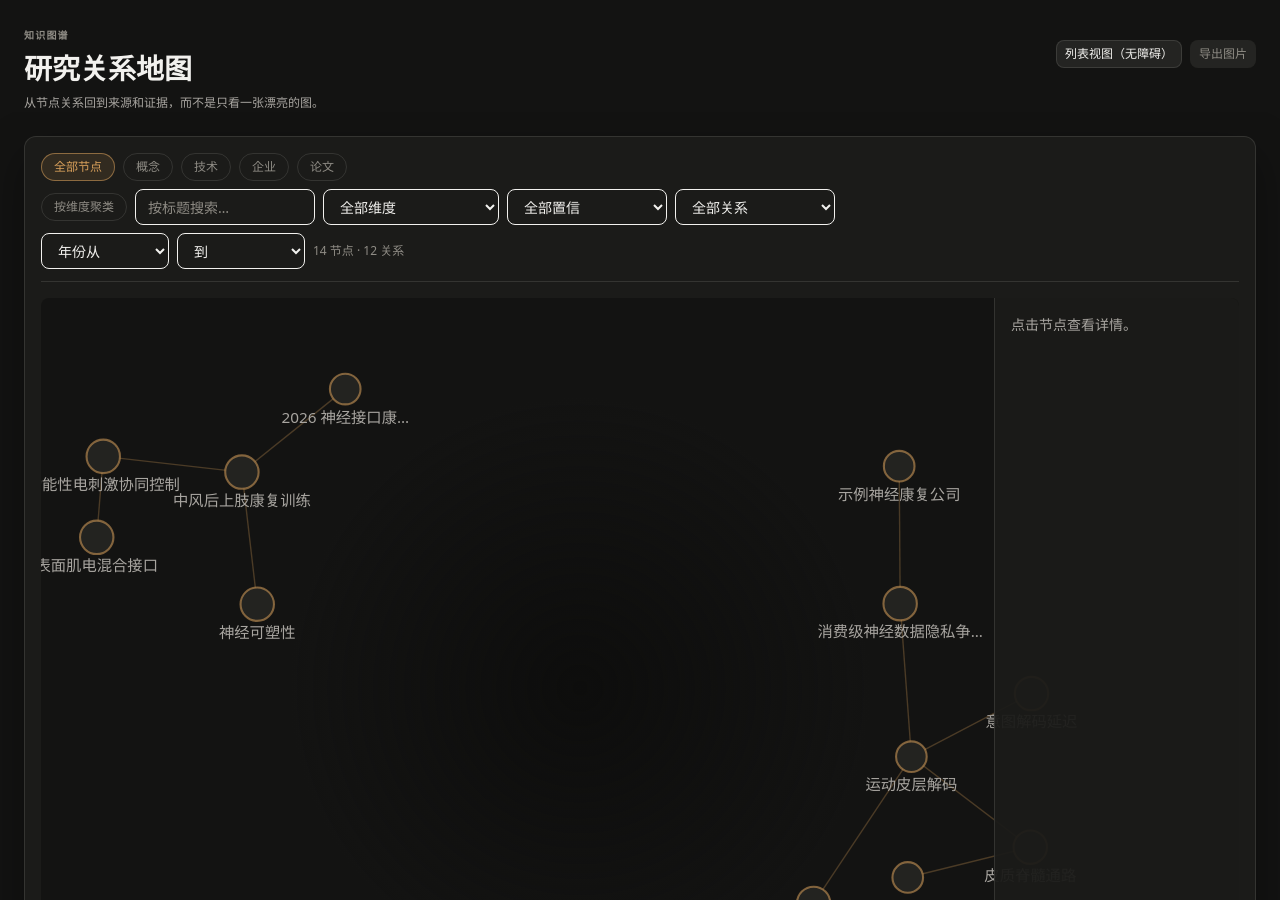
Test: GraphPage › the list fallback respects the confidence filter and shows the year column
Expected: the button "运动皮层解码" is shown, [865,774,957,794]
Select "已确认" in the dropdown named "按置信状态过滤": (587, 207) [507,189,667,225]
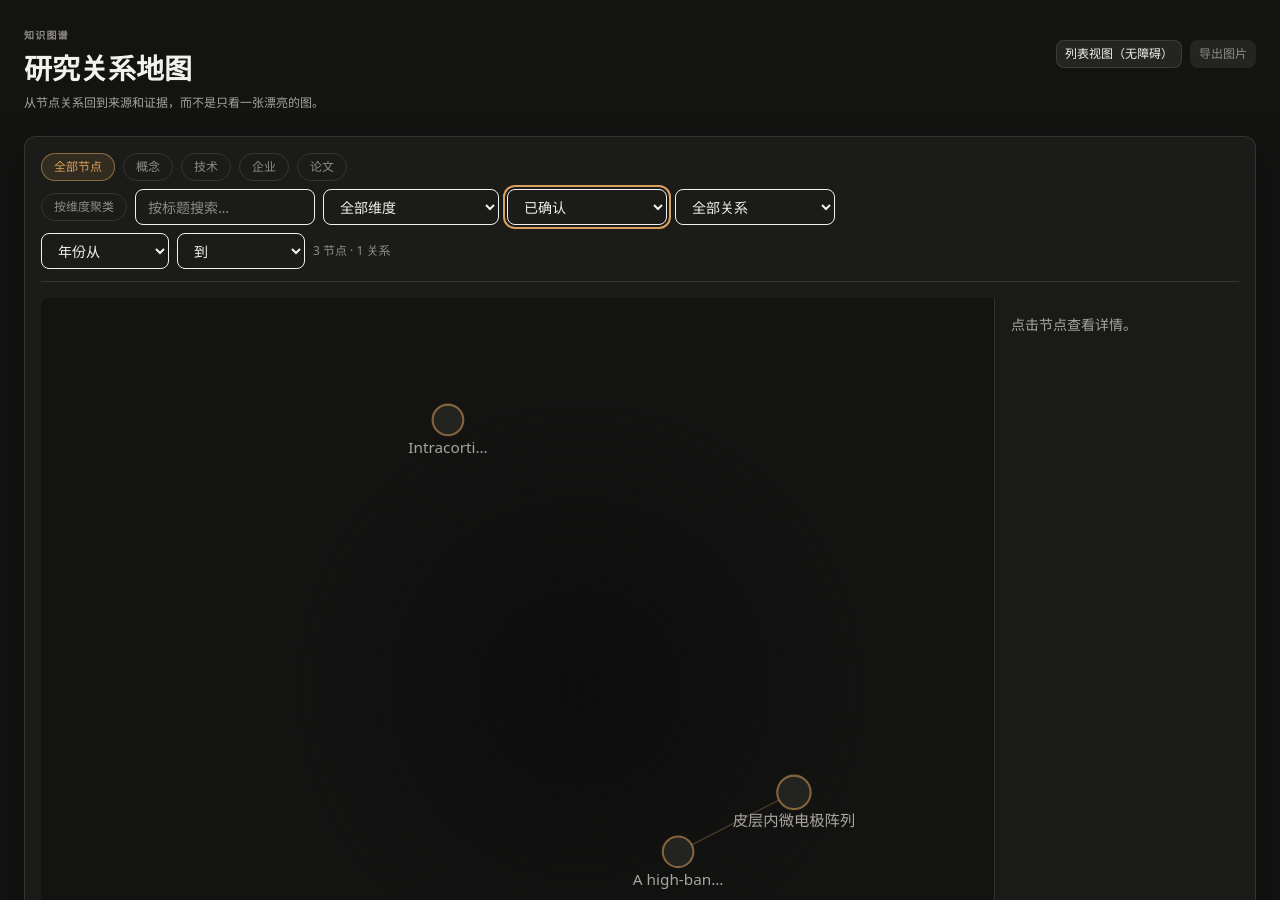
Click the button "列表视图（无障碍）": (1119, 54) [1056,40,1182,68]
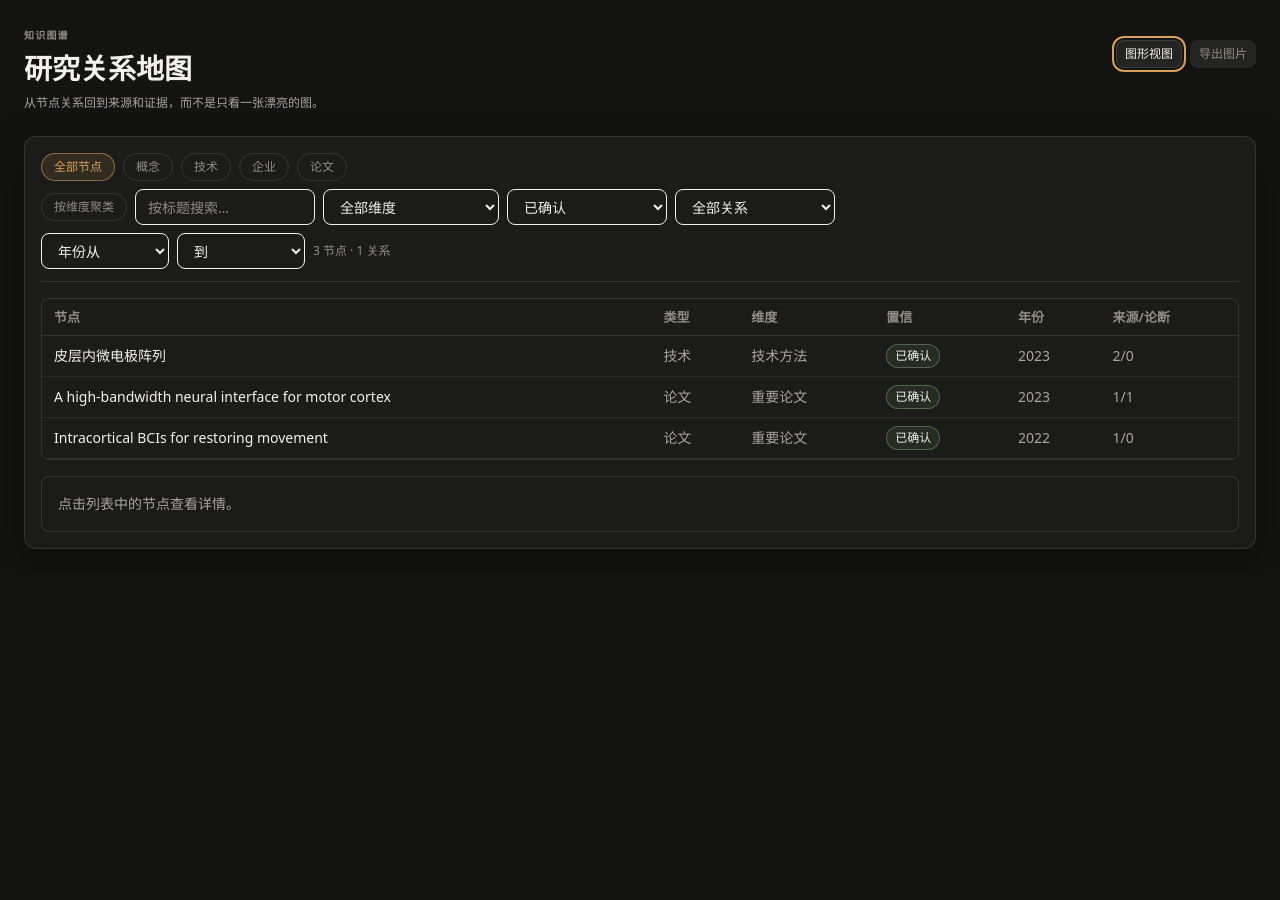
Expected: the icon "运动皮层解码" is not shown
Result: the number of rows is 4 at [42,299,1238,336]; [42,336,1238,376]; [42,376,1238,418]; [42,418,1238,458]
Result: the row "皮层内微电极阵列 技术 技术方法 已确认 2023 2/0" is shown at [42,336,1238,376]
